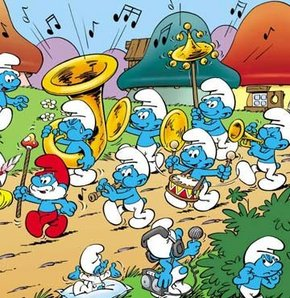smurf: (22, 154, 79, 238), (139, 217, 196, 297), (101, 144, 154, 229), (51, 101, 100, 187), (172, 129, 223, 210), (240, 106, 288, 191), (192, 75, 236, 159), (127, 86, 166, 172), (232, 236, 286, 297), (70, 242, 118, 294), (1, 50, 29, 134)
